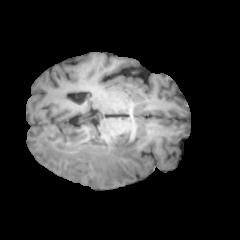glioma: (40, 130, 145, 188)
